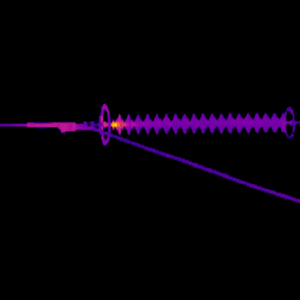insulator: (108, 110, 280, 135)
